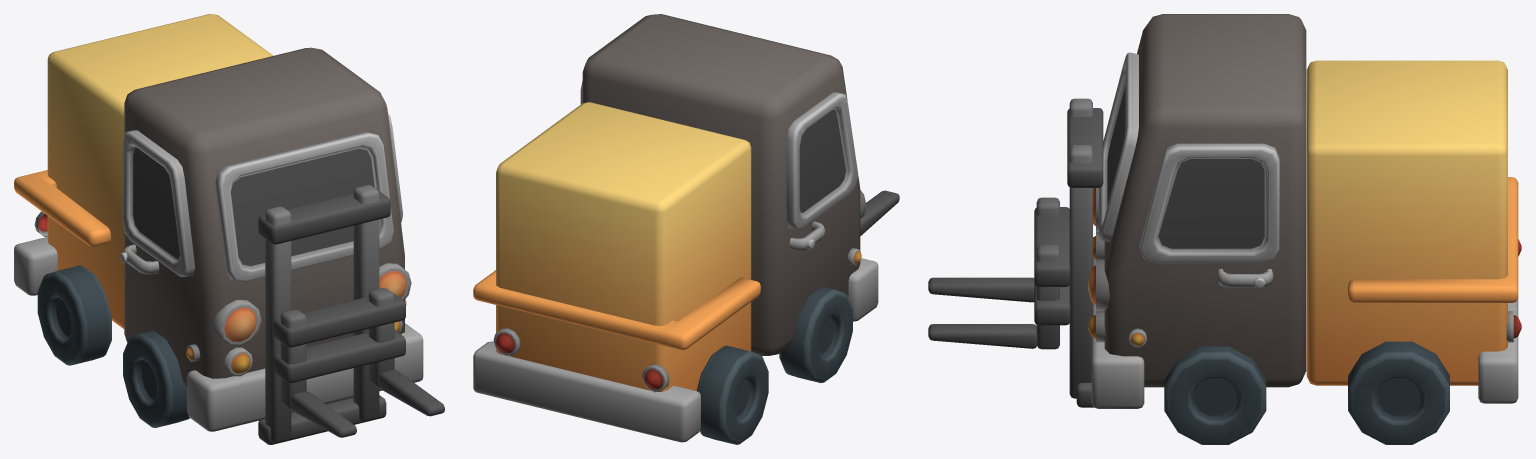
The model's file is mct_car_04.fbx.
The picture shows the model from 3 angles, left to right: view 1: azimuth 30°, elevation 25°; view 2: azimuth 150°, elevation 25°; view 3: azimuth 270°, elevation 25°; orthographic projection. The views are drawn at different scales.
Visible parts, largest first — view 1: mct_car_04, mct_car_04_w; view 2: mct_car_04, mct_car_04_w; view 3: mct_car_04, mct_car_04_w.
Part boxes in pixels (x1=…): mct_car_04: x1=14, y1=14, x2=444, y2=444; mct_car_04_w: x1=37, y1=265, x2=189, y2=427; mct_car_04: x1=473, y1=14, x2=899, y2=442; mct_car_04_w: x1=696, y1=286, x2=852, y2=444; mct_car_04: x1=928, y1=14, x2=1521, y2=408; mct_car_04_w: x1=1164, y1=341, x2=1449, y2=444.
Bounding box in the file's own units: 130 × 159 × 262.
